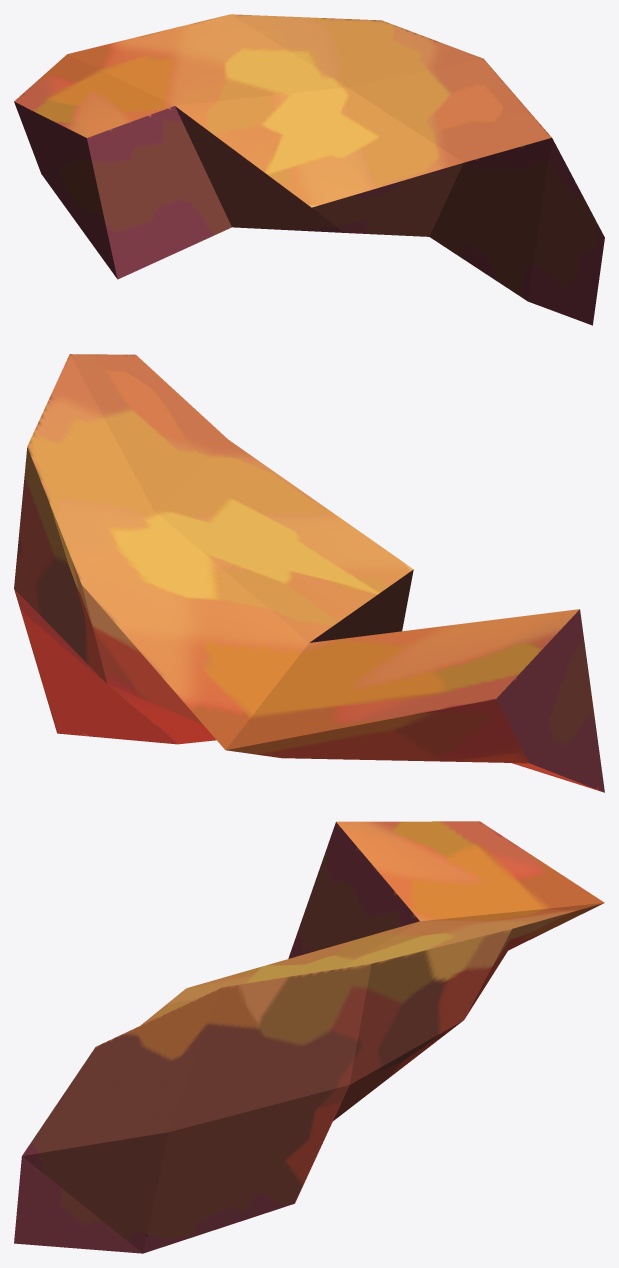
Rendered from Grips2_001Broken.fbx.
3 renders of one model, top to bottom at view 1: azimuth 30°, elevation 25°; view 2: azimuth 150°, elevation 25°; view 3: azimuth 270°, elevation 25°, orthographic. The views are drawn at different scales.
Visible parts, largest first — view 1: Grips2_001Broken; view 2: Grips2_001Broken; view 3: Grips2_001Broken.
Part boxes in pixels (bbox=[...]): Grips2_001Broken: bbox=[14, 14, 604, 325]; Grips2_001Broken: bbox=[14, 354, 604, 792]; Grips2_001Broken: bbox=[14, 821, 604, 1253].
Bounding box in the file's own units: 2.18 × 1.99 × 1.07.
Materials: 1 (1 with a texture image).
